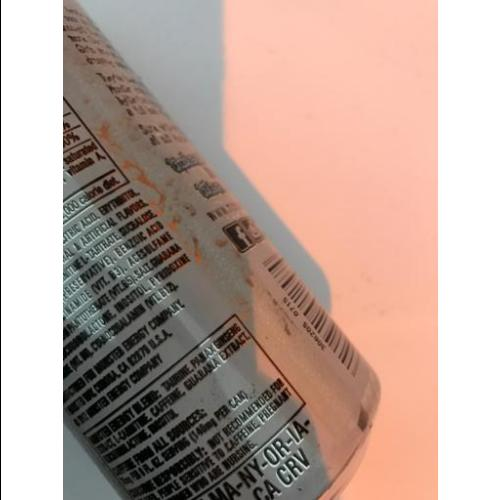metal: (66, 0, 378, 500)
